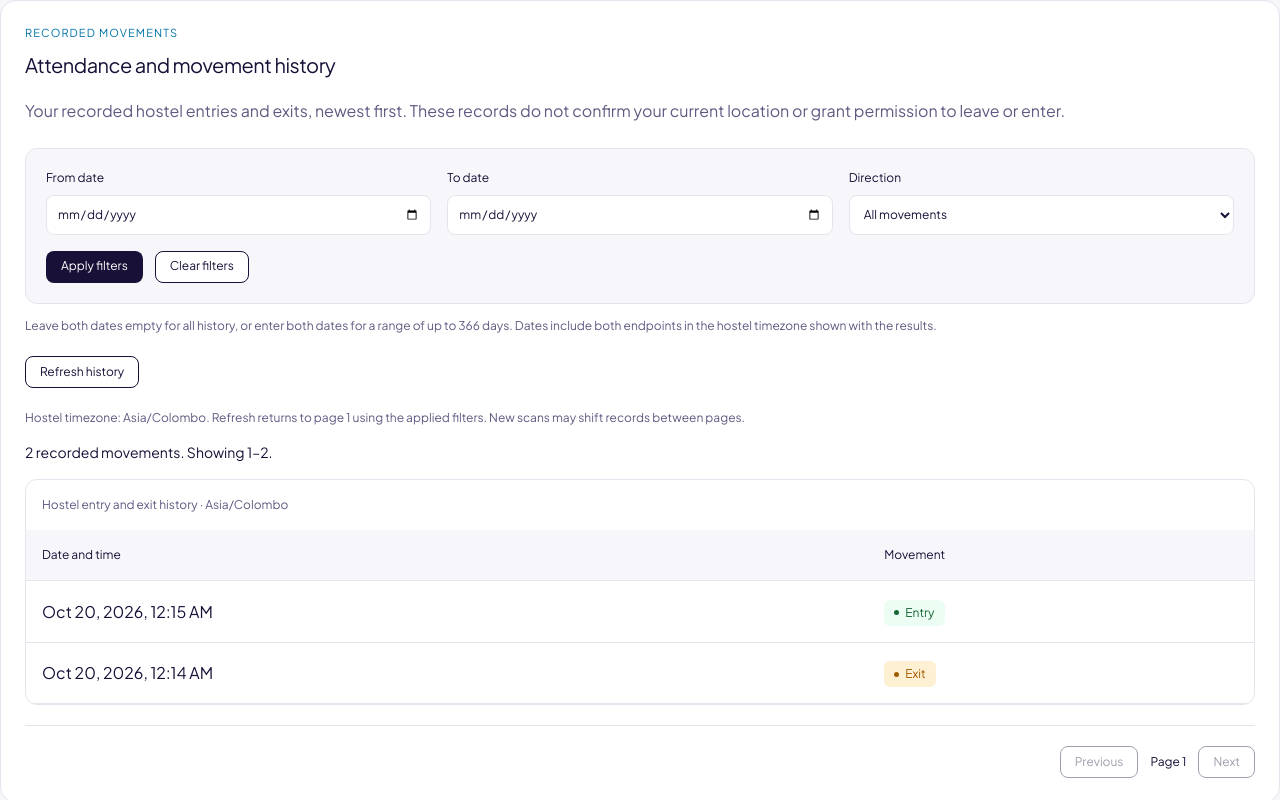
validates paired dates and keeps values without sending invalid filters
Type "2026-10-19" into the date field labelled "From date" at (239, 215), box [46,195,431,235]
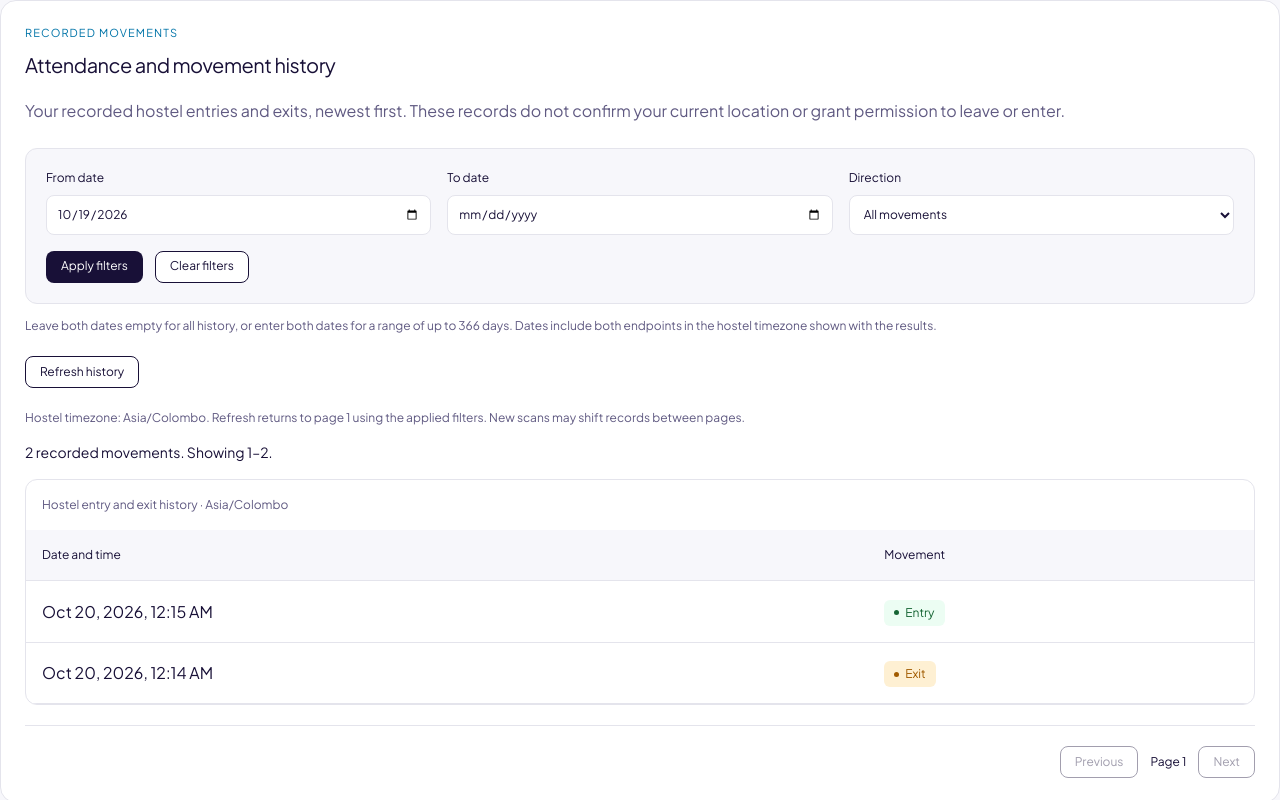
Click the button "Apply filters" at (94, 267), box [46,251,143,283]
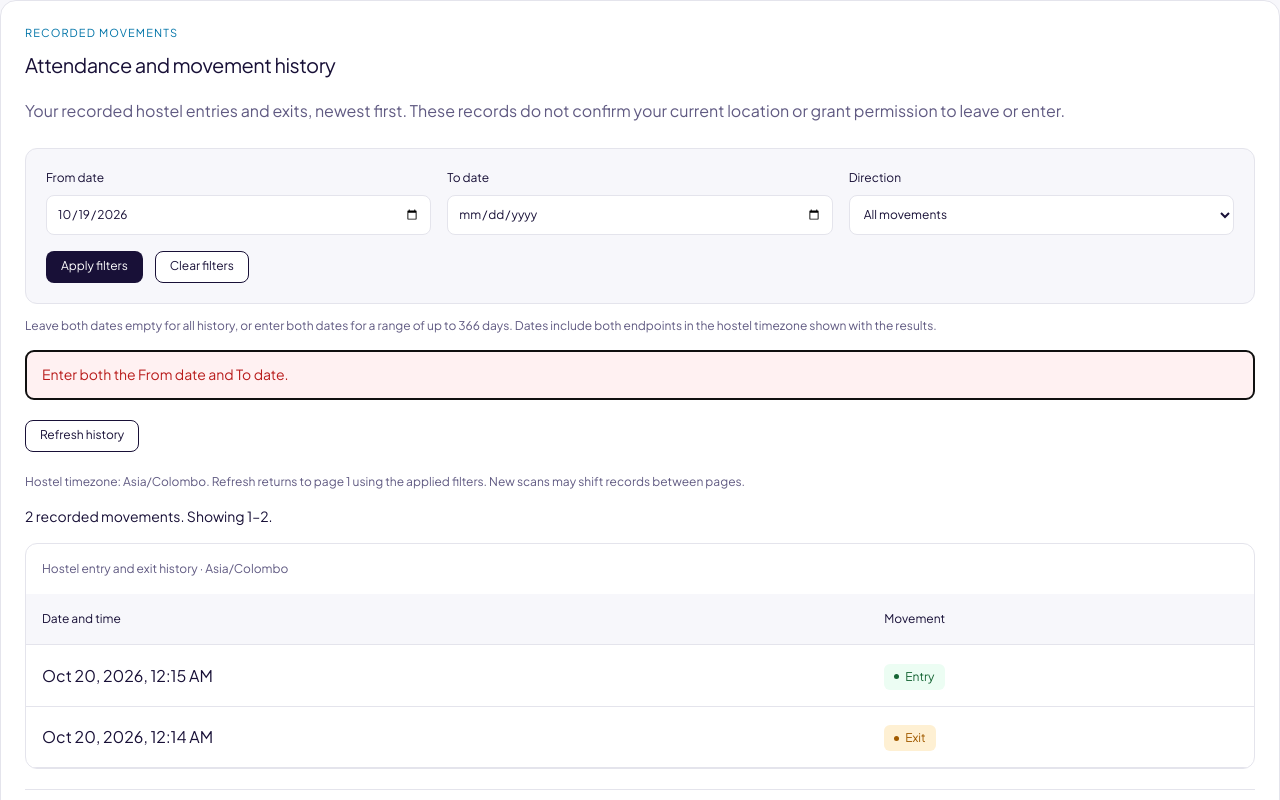
Check: the message "Enter both the From date and To date." is shown, box [25,350,1255,400]
Type "2026-10-20" into the date field labelled "From date" at (239, 215), box [46,195,431,235]
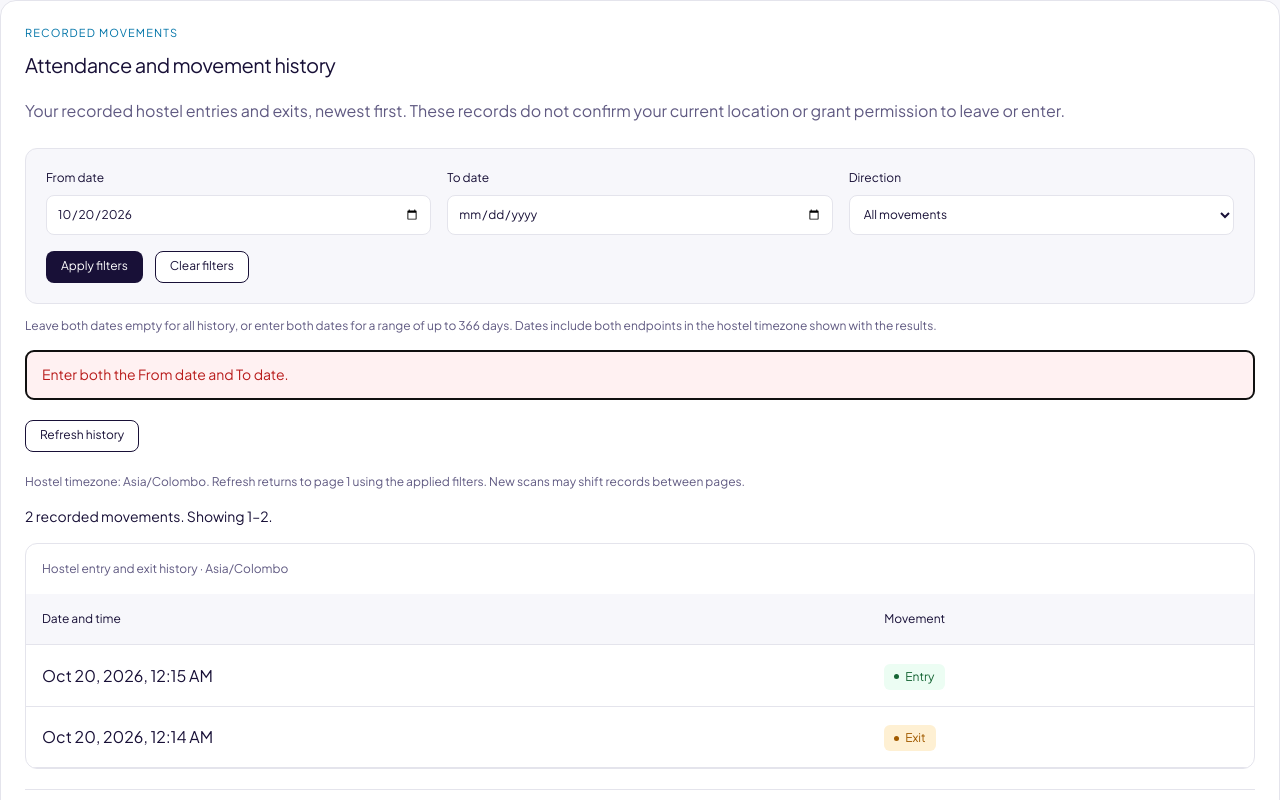
Type "2026-10-19" into the date field labelled "To date" at (640, 215), box [447,195,833,235]
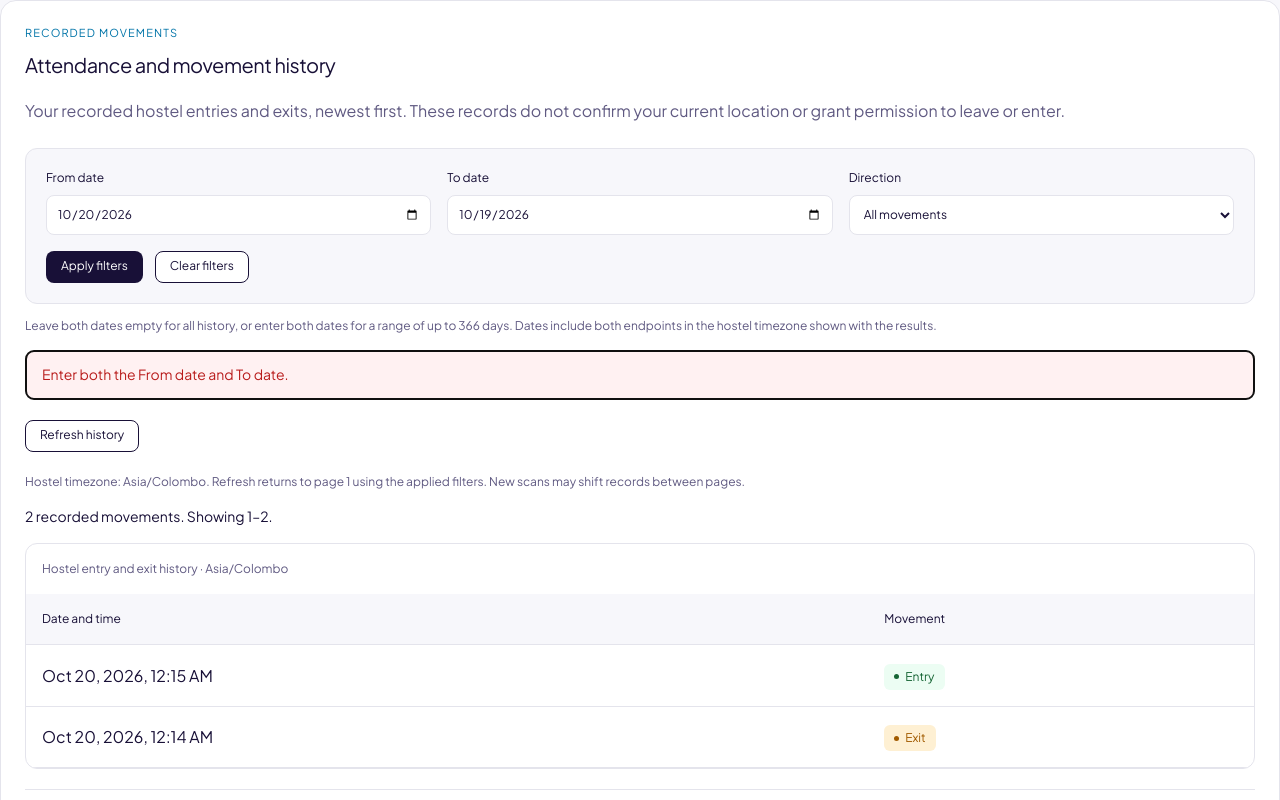
Click the button "Apply filters" at (94, 267), box [46,251,143,283]
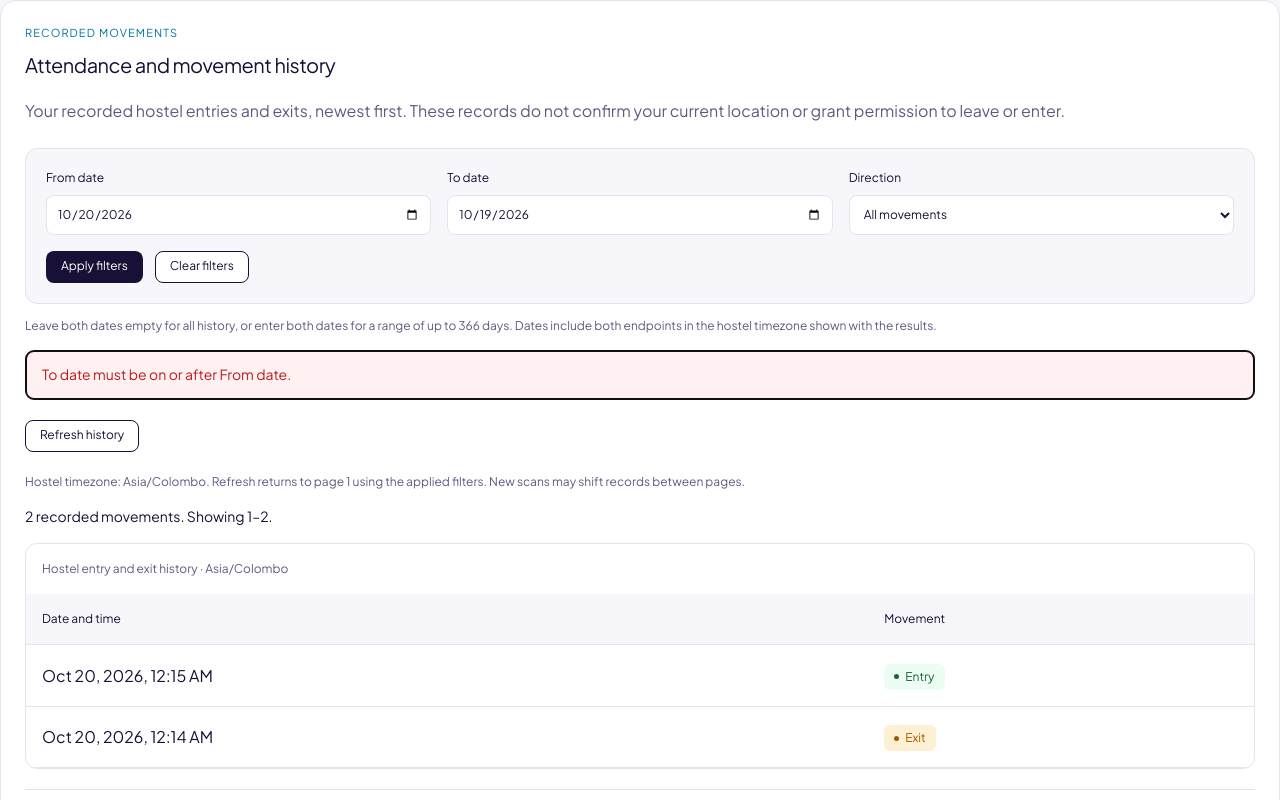
Check: the message "To date must be on or after From date." is shown, box [25,350,1255,400]
